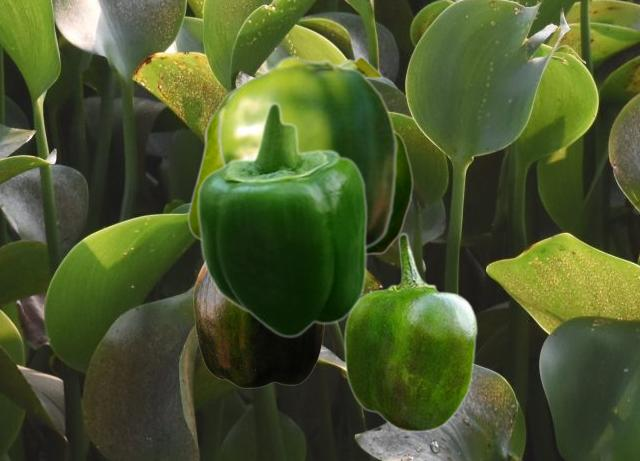bell_pepper: (187, 56, 412, 257), (196, 101, 367, 338), (218, 55, 397, 251), (343, 232, 477, 432), (193, 264, 324, 387)
